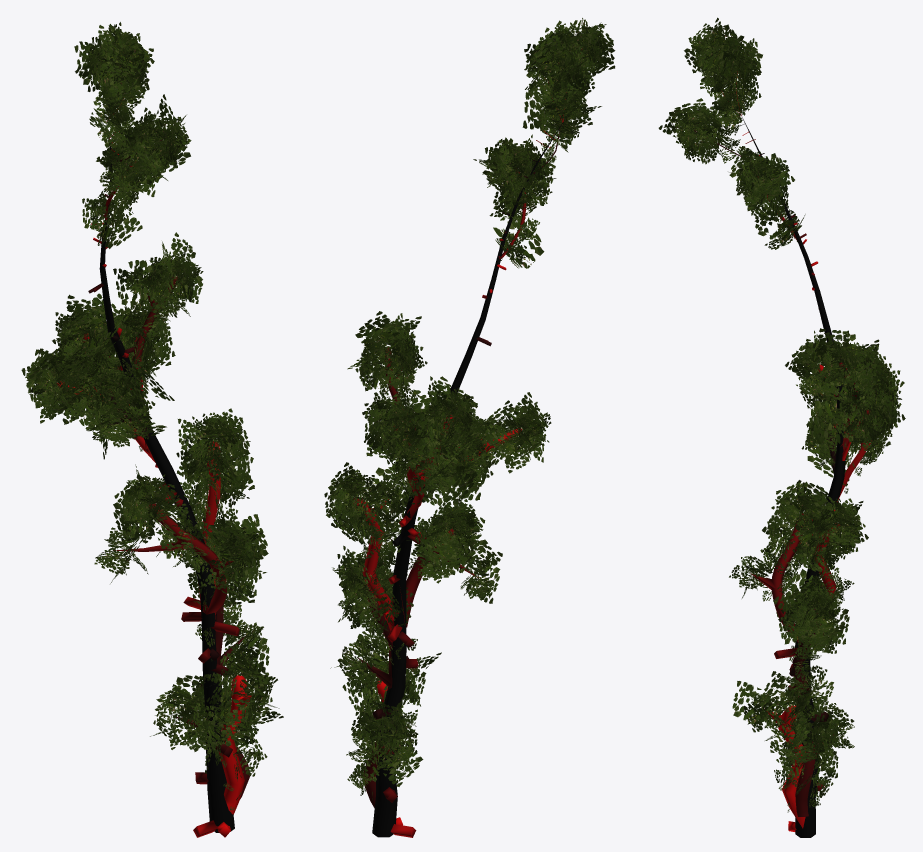
File: Tree_10.fbx
3 views of the same model, side by side, from view 1: azimuth 30°, elevation 25°; view 2: azimuth 150°, elevation 25°; view 3: azimuth 270°, elevation 25° (orthographic). The views are drawn at different scales.
Visible parts, largest first — view 1: Tree_5; view 2: Tree_5; view 3: Tree_5.
Part boxes in pixels (x1,y1,x2,y2): Tree_5: [21, 22, 283, 837]; Tree_5: [324, 18, 615, 837]; Tree_5: [658, 17, 905, 837].
Bounding box in the file's own units: 665 × 2169 × 667.
